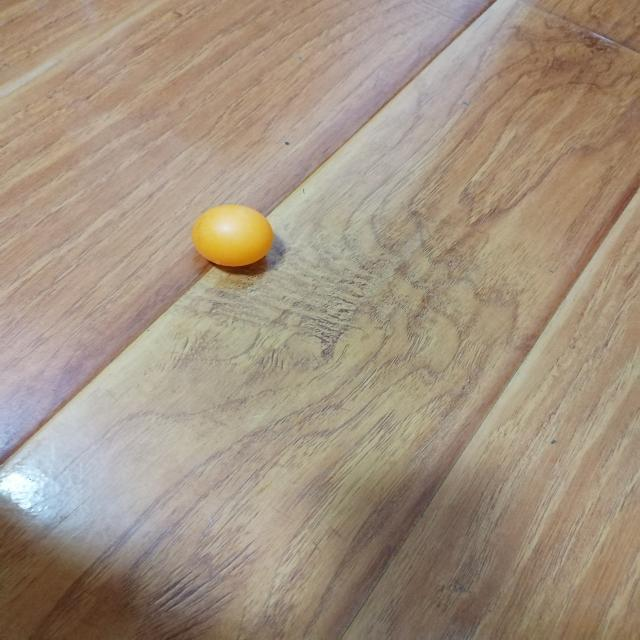oball: (193, 204, 274, 266)
